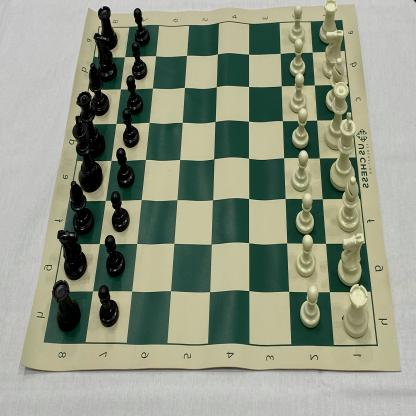black-bishop: (69, 180, 94, 234), (88, 63, 110, 116)
black-king: (72, 114, 104, 193)
black-knight: (57, 229, 87, 281), (94, 32, 117, 82)
black-pawn: (104, 235, 126, 276), (98, 285, 119, 327), (109, 192, 130, 232), (126, 75, 145, 114), (122, 108, 140, 148), (116, 149, 134, 188), (133, 5, 149, 46), (130, 42, 147, 80)
black-queen: (75, 90, 105, 157)
black-rook: (52, 280, 81, 330), (97, 7, 118, 49)
white-bishop: (337, 176, 362, 232), (326, 58, 346, 112)
white-king: (330, 111, 358, 192)
white-knight: (337, 232, 365, 286), (321, 28, 345, 79)
white-pawn: (299, 282, 321, 329), (295, 233, 317, 277), (291, 150, 313, 192), (295, 192, 317, 233), (291, 108, 312, 148), (290, 73, 308, 114), (289, 6, 308, 42), (290, 39, 308, 77)
white-queen: (324, 81, 350, 151)
white-rook: (343, 283, 372, 340), (319, 0, 339, 44)
